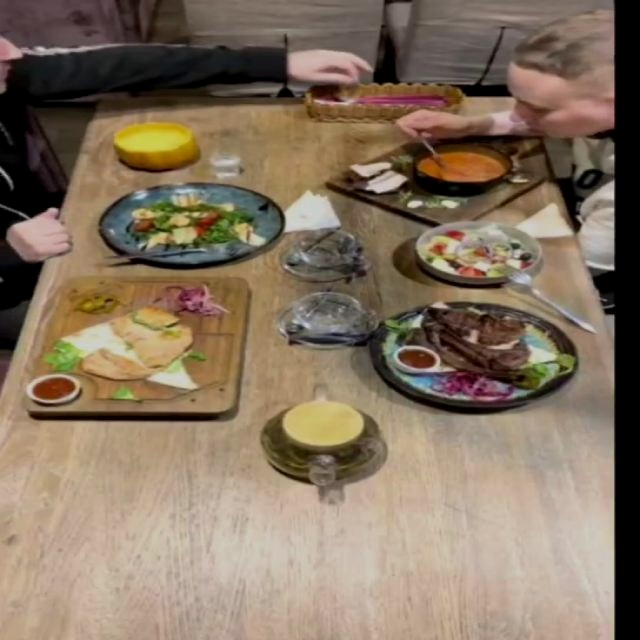meat: (23, 276, 250, 420), (367, 301, 580, 408)
salad: (95, 182, 281, 266), (413, 220, 543, 285)
soup: (321, 134, 548, 226), (112, 122, 199, 170)
tea: (245, 373, 411, 507)
